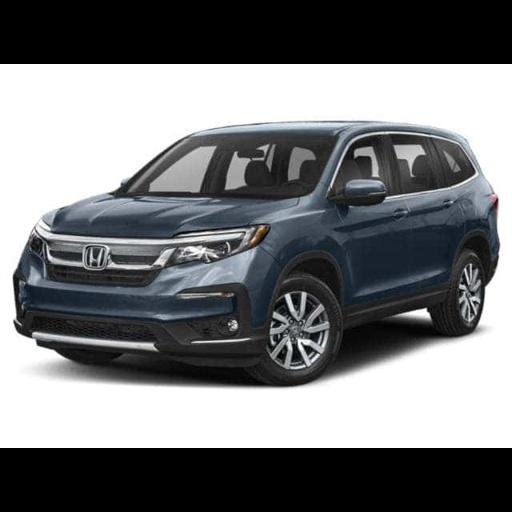suv: (13, 121, 499, 384)
